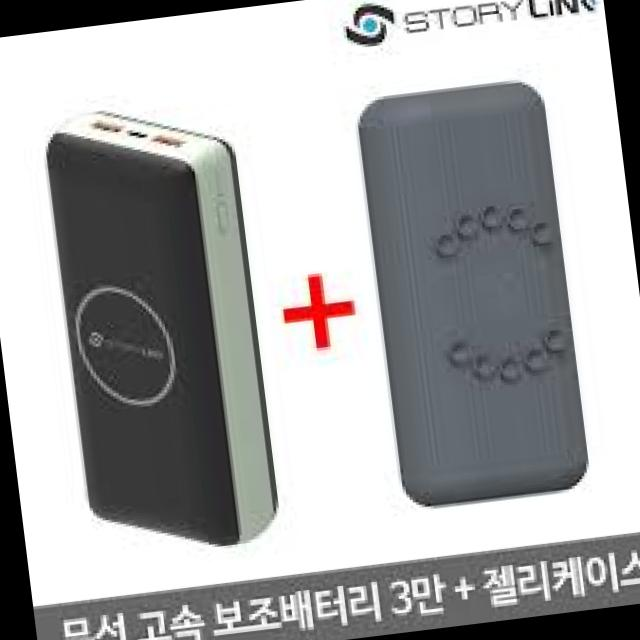power_bank: (39, 93, 286, 567)
